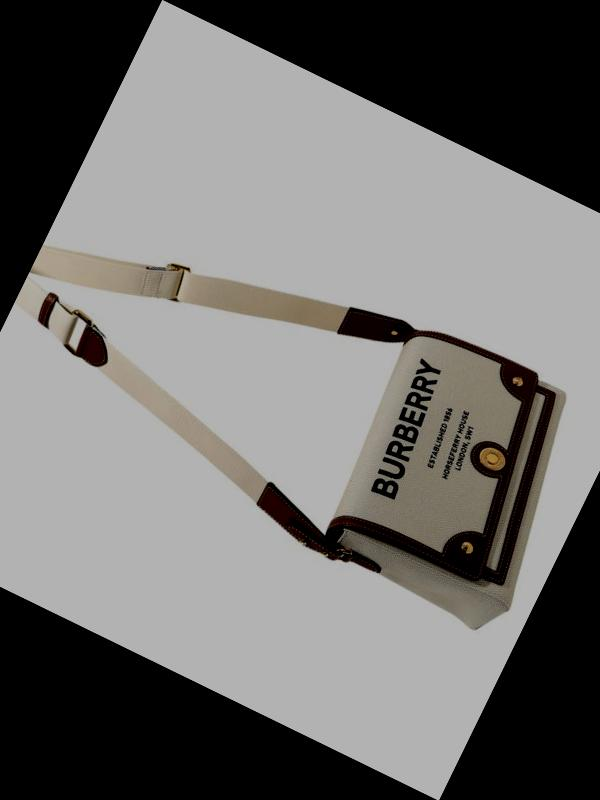BURBERRY: (359, 357, 454, 500)
